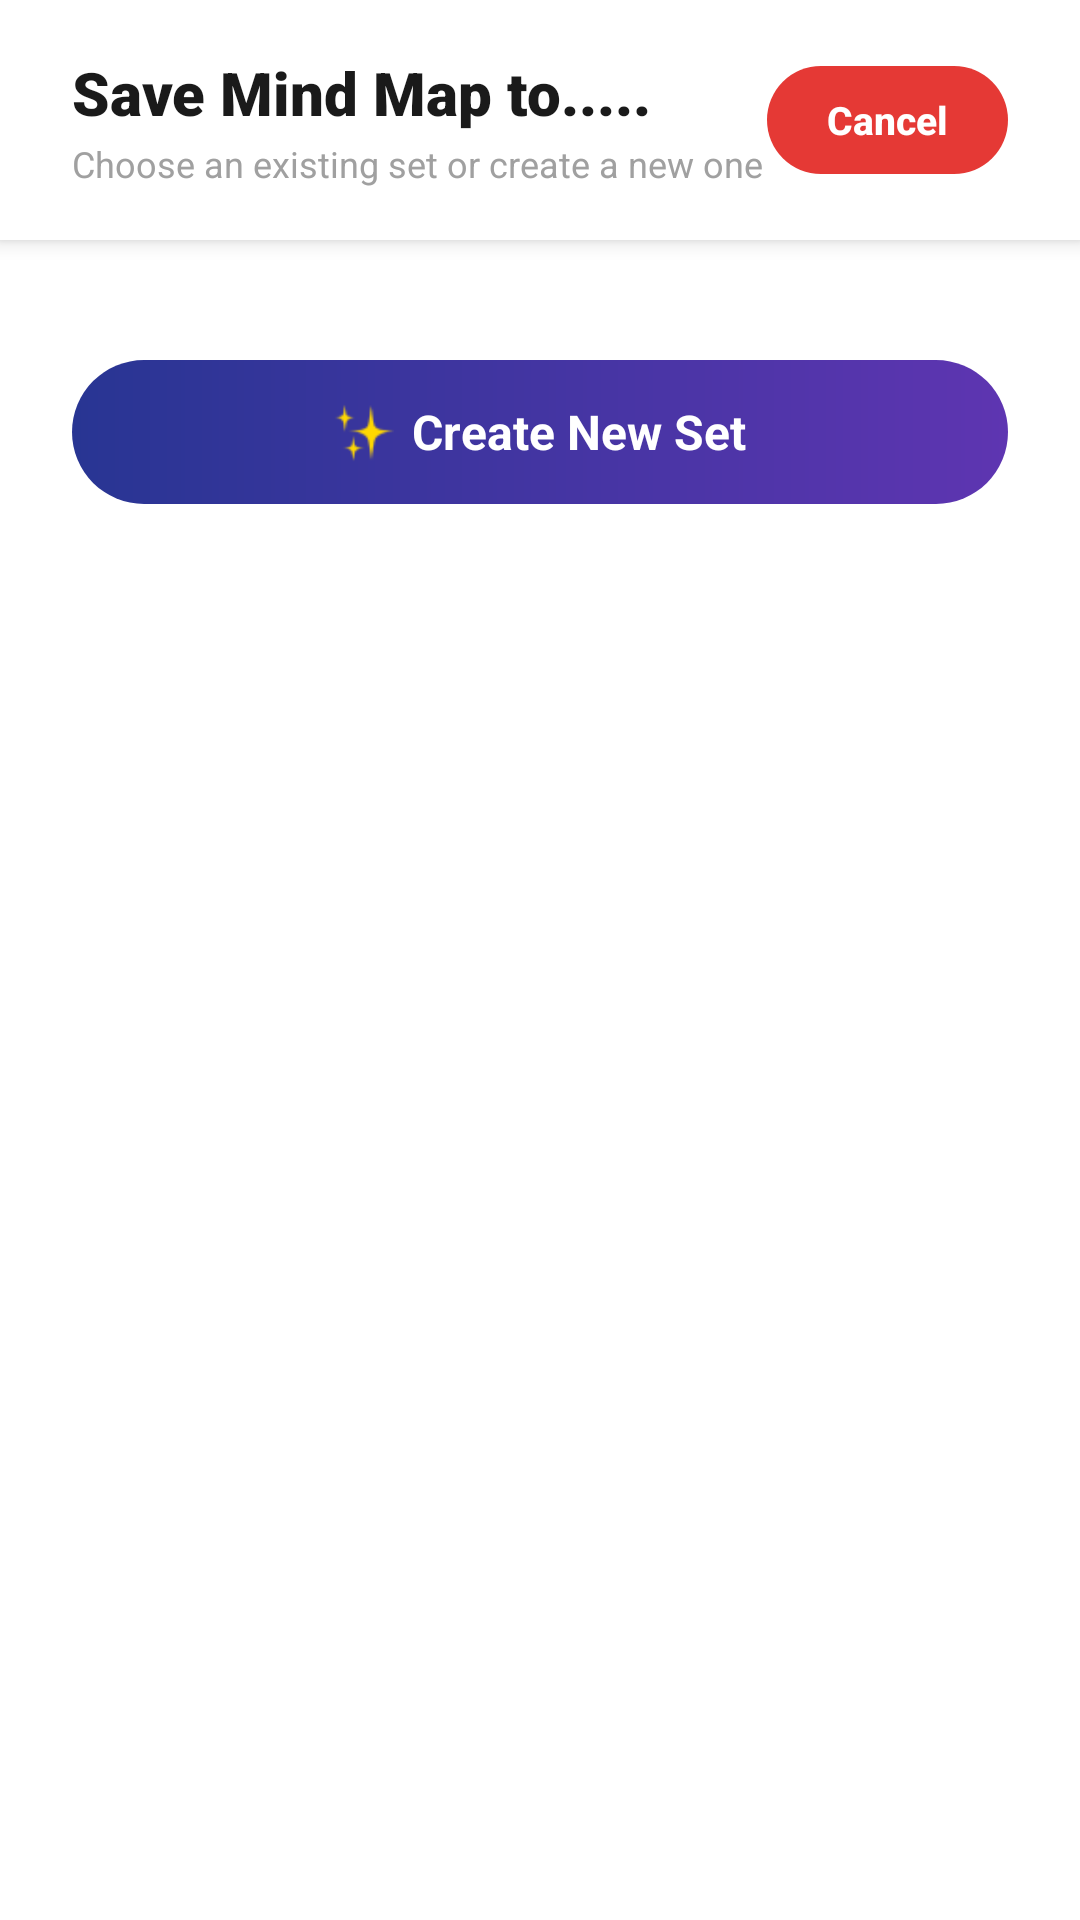

Named icons in this screenshot (1080×1920) and their bounding boxes, (x1, y1, x2, y2):
sparkles: (337, 406, 392, 460)
